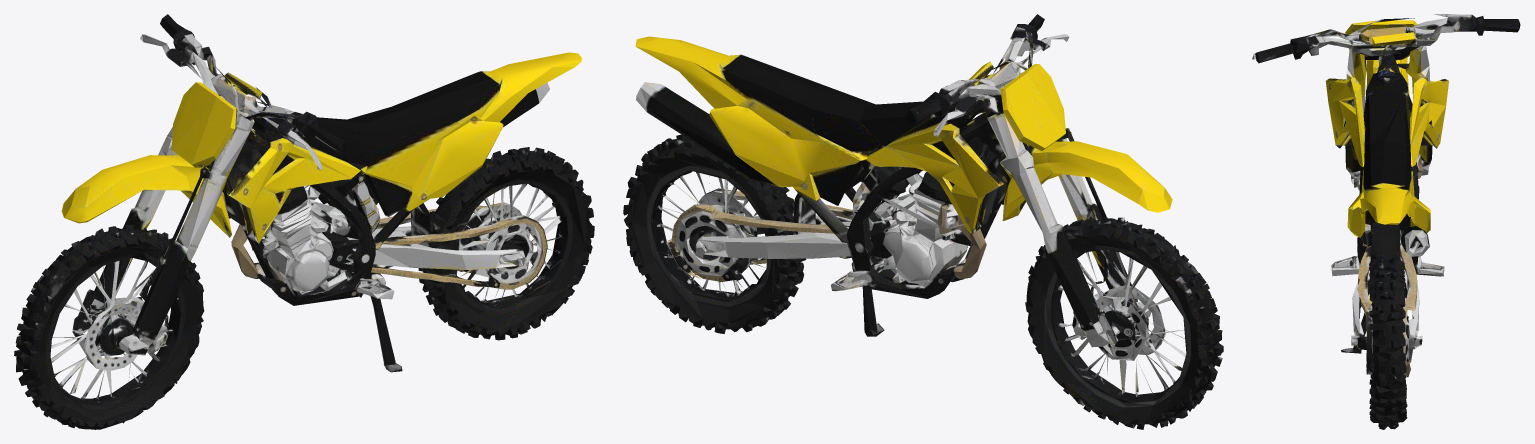
File: yellow-dirt-bike.glb
The picture shows the model from 3 angles, left to right: view 1: azimuth 30°, elevation 25°; view 2: azimuth 150°, elevation 25°; view 3: azimuth 270°, elevation 25°; orthographic projection. The views are drawn at different scales.
Visible parts, largest first — view 1: Mesh_0; view 2: Mesh_0; view 3: Mesh_0.
Part boxes in pixels (x1,y1,x2,y2): Mesh_0: (14, 14, 594, 429); Mesh_0: (623, 14, 1223, 429); Mesh_0: (1252, 14, 1520, 429).
Bounding box in the file's own units: 1.89 × 1.06 × 0.8824.
Materials: 1 (1 with a texture image).
